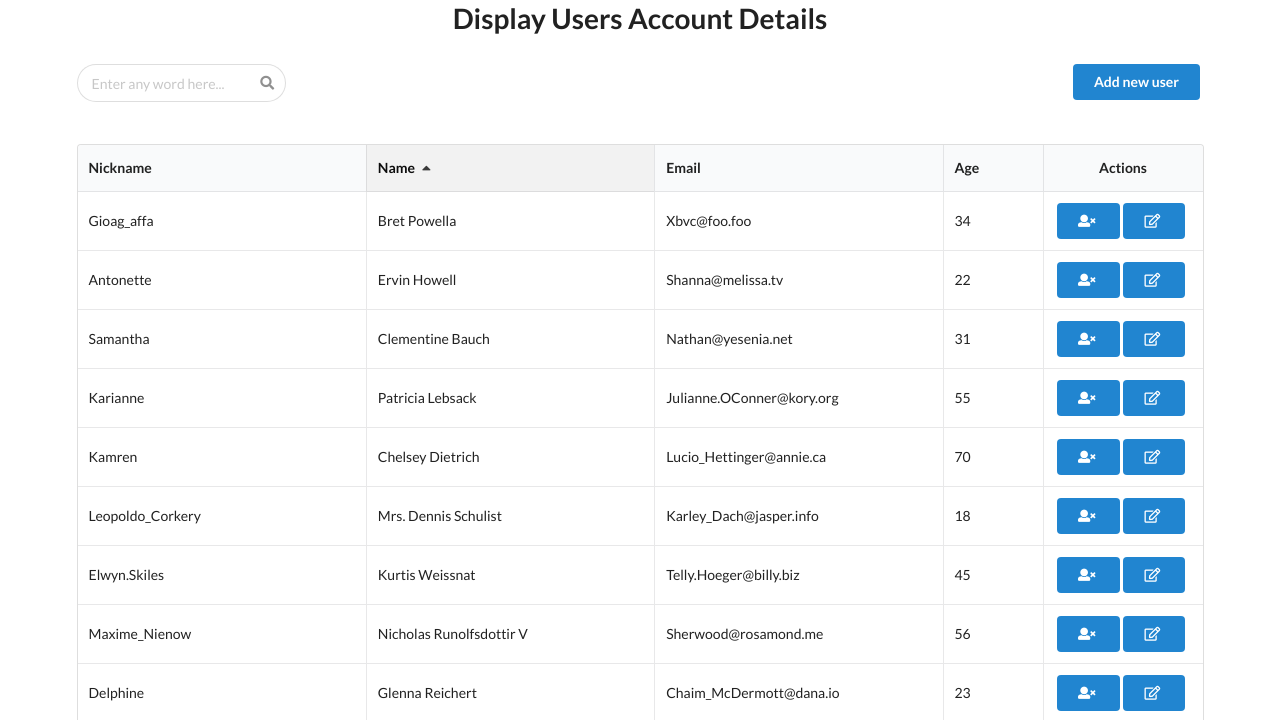
it: User list › to edit a user › should open a modal to edit the first user record
Click the button with test id "edit-user-btn" in the row of "Gioag_affa". click: [1154, 221]
box: [1123,203,1185,239]
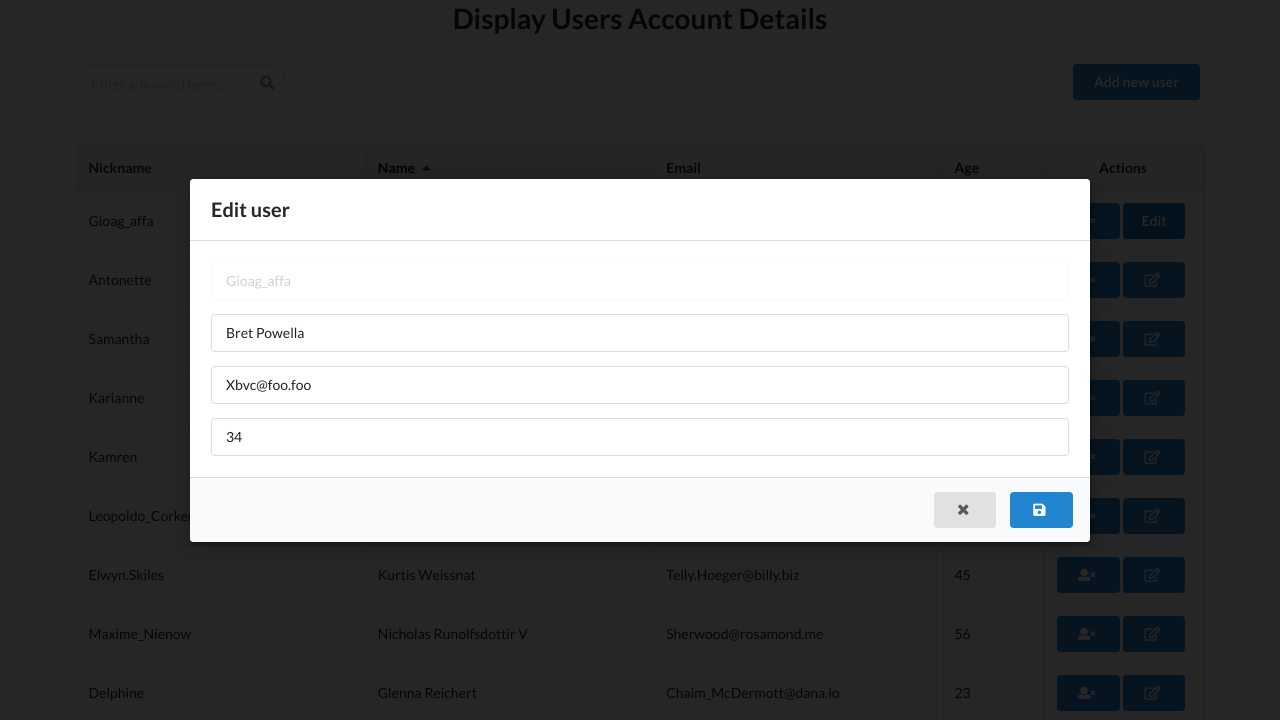
Result: the number of elements with test id "user-from-modal" is 1 at [190,179,1090,542]
Result: the 1st field is disabled at [211,261,1069,299]
